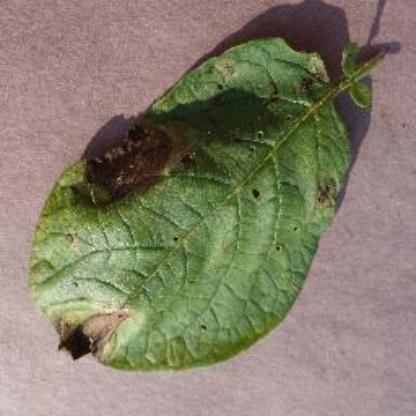Late-Blight: (26, 30, 392, 372)
